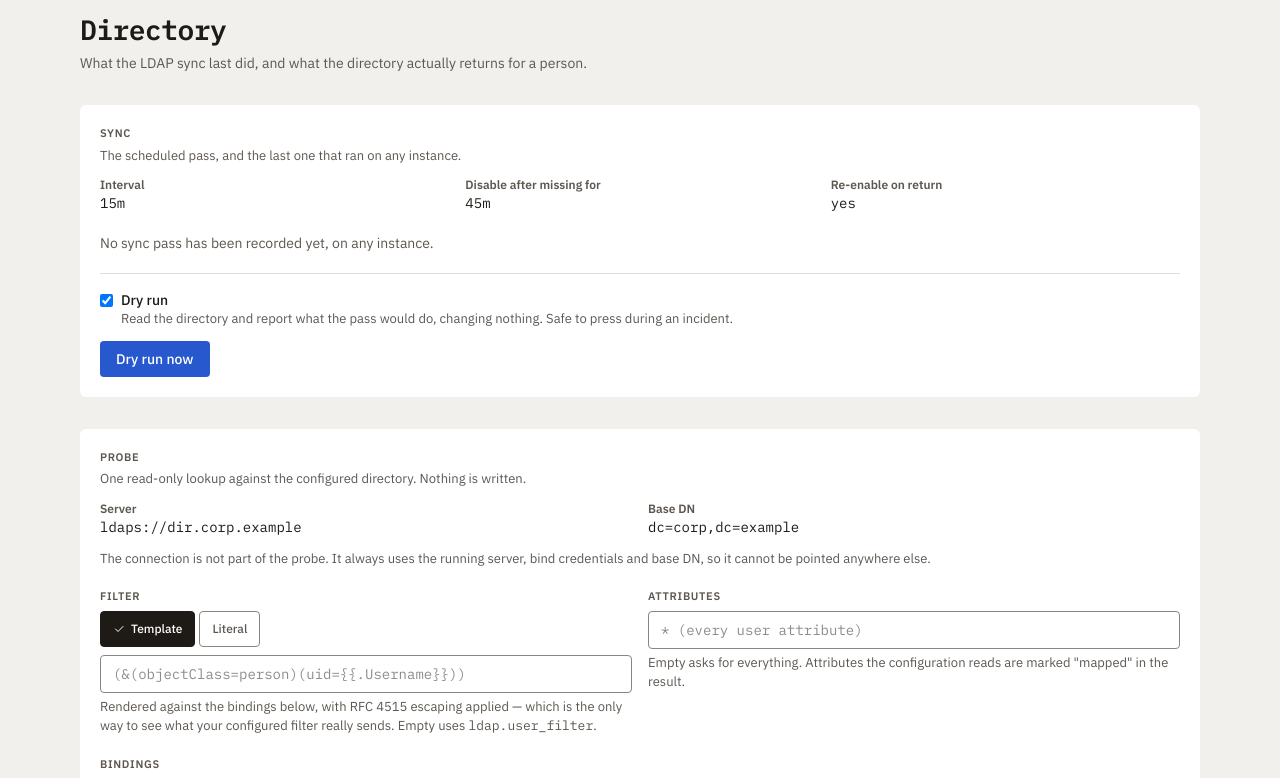
Test case: Directory admin page › the sync panel › should surface a refused second pass
Click the button with test id "ldap-run-sync".
click(155, 359)  # box [100, 341, 210, 377]
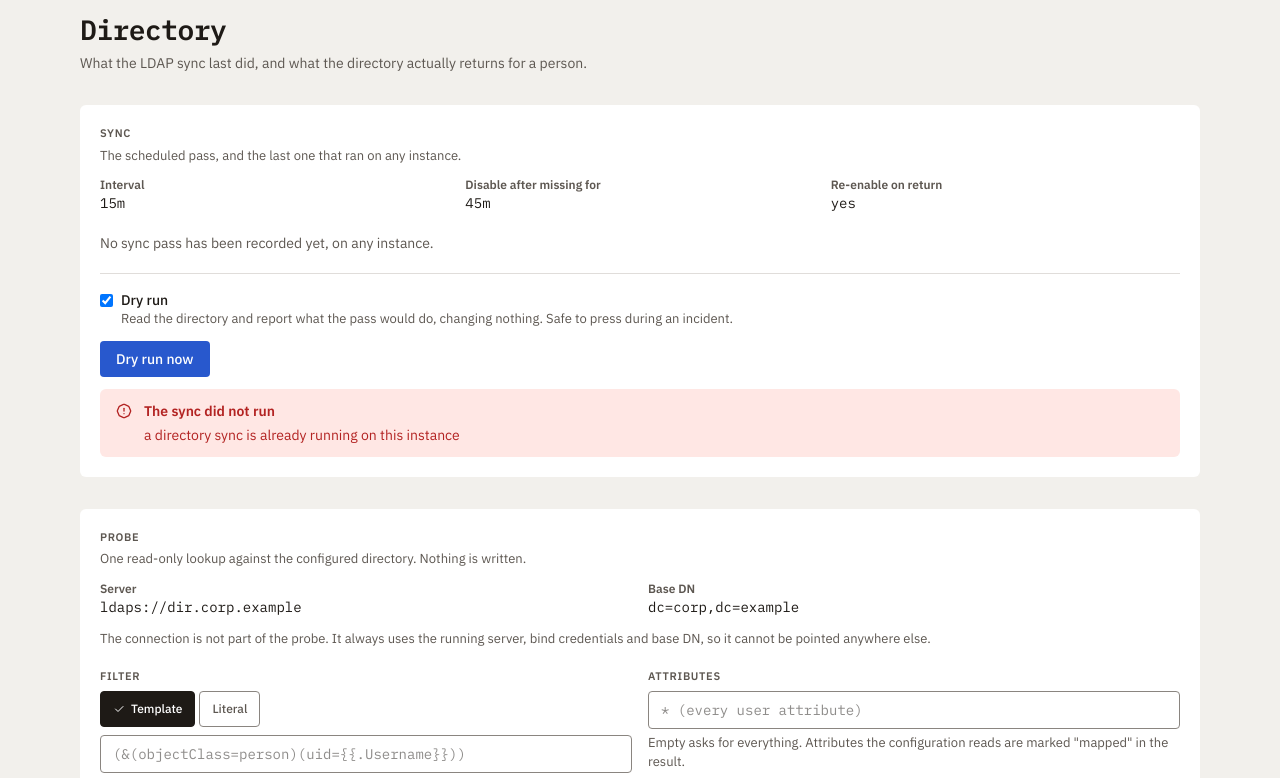
Now the message with test id "ldap-sync-error" shows "already running", box [144, 426, 460, 444]
